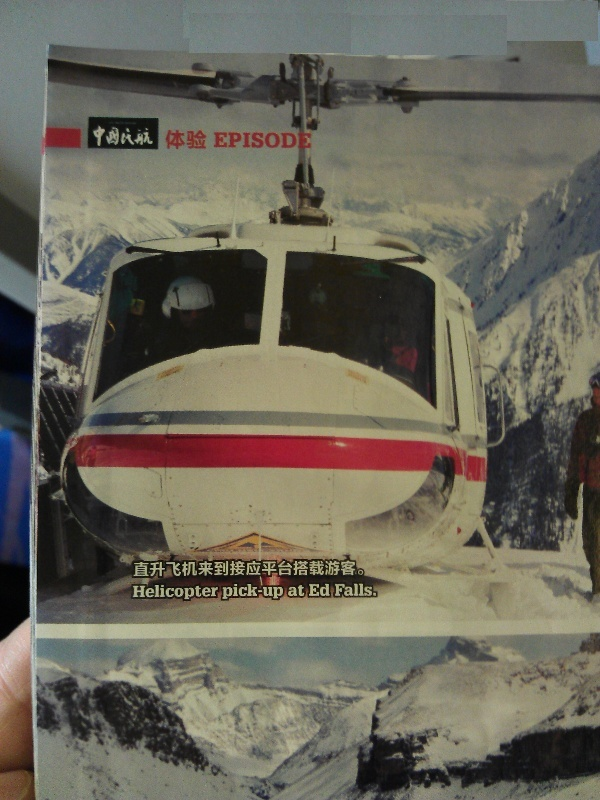text: (193, 129, 209, 151), (97, 126, 112, 148), (113, 126, 128, 148), (129, 126, 144, 148), (177, 129, 192, 151), (225, 130, 240, 150), (241, 130, 256, 150), (257, 130, 272, 150), (273, 130, 288, 150), (289, 130, 304, 150), (145, 559, 160, 578), (161, 559, 176, 578), (177, 559, 192, 578), (193, 559, 208, 578), (209, 559, 224, 578), (225, 559, 240, 578), (241, 559, 256, 578), (257, 559, 272, 578), (273, 559, 288, 578), (289, 559, 304, 578), (305, 559, 320, 578), (321, 559, 336, 578), (337, 559, 352, 578), (145, 584, 160, 602), (161, 584, 176, 602), (177, 584, 192, 602), (193, 584, 208, 602), (164, 129, 176, 151), (225, 584, 240, 601), (241, 584, 256, 601), (257, 584, 272, 601), (353, 559, 366, 578), (131, 584, 144, 602), (132, 559, 144, 578), (337, 583, 352, 598), (353, 583, 368, 598), (214, 130, 224, 150), (145, 126, 154, 148), (289, 585, 305, 597), (273, 584, 284, 601), (209, 584, 219, 602), (305, 130, 313, 150), (309, 584, 320, 598), (321, 584, 331, 598), (369, 583, 378, 598), (93, 126, 96, 148), (222, 584, 224, 601), (334, 583, 336, 598)
